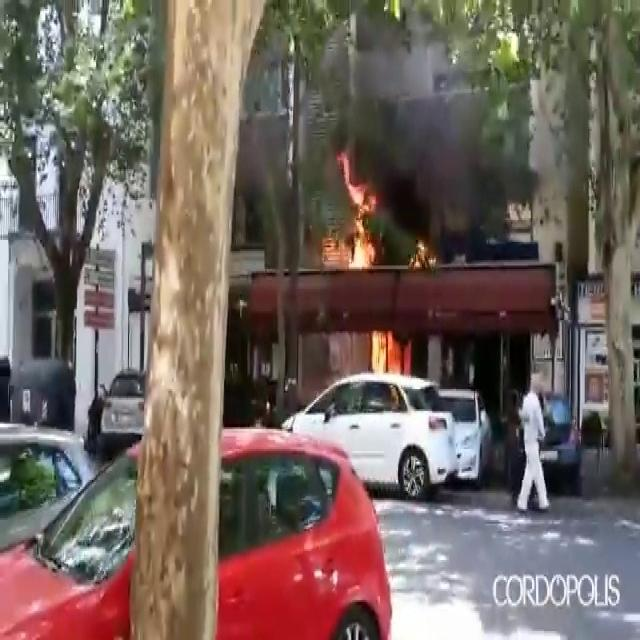Fire: (324, 154, 386, 274), (362, 322, 410, 382)
Smoke: (340, 6, 534, 226)
